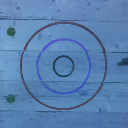Axe Tip: (117, 61, 128, 64)
